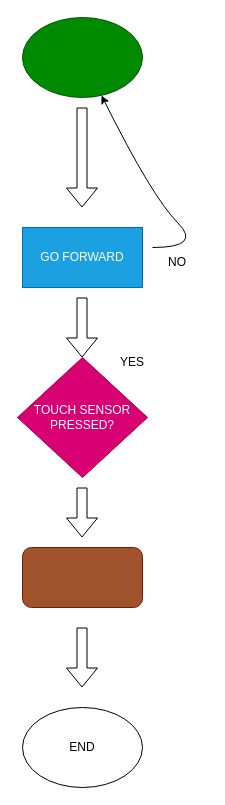
The diagram is 225 pixels wide and 805 high, and some of its shapes have lost their labels. The shapes that lost their labels are listed below. From the top down, each one's centre as x and y in pixels, then its label:
At [82,57]: "START".
At [82,577]: "STOP ROBOT".
